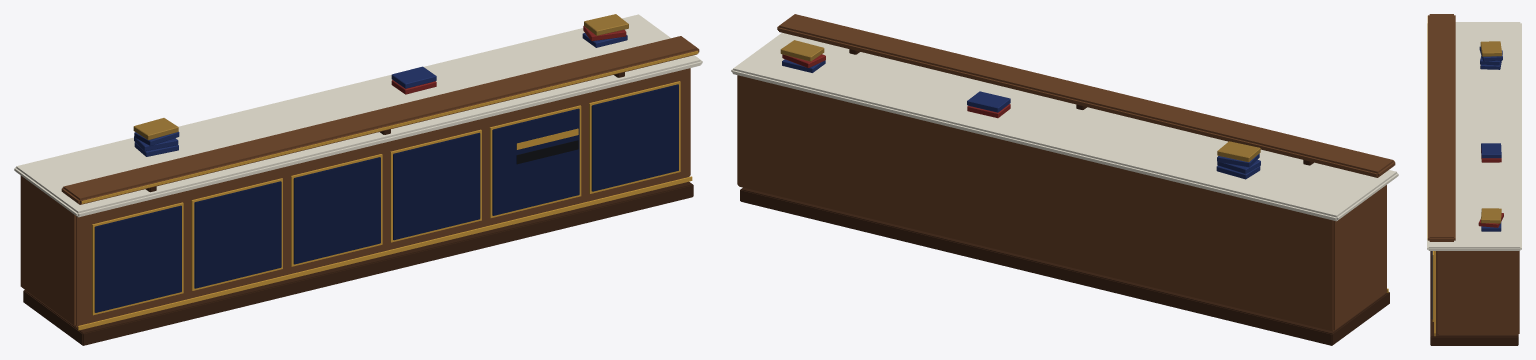
The model's file is counter.glb.
3 views of the same model, side by side, from view 1: azimuth 30°, elevation 25°; view 2: azimuth 150°, elevation 25°; view 3: azimuth 270°, elevation 25° (orthographic). The views are drawn at different scales.
Parts seen in each view (by area): view 1: counter_navy, counter_wood, counter_marble, counter_brass, counter_wood_dark, counter_books, counter_dark; view 2: counter_wood, counter_marble, counter_wood_dark, counter_books; view 3: counter_marble, counter_wood, counter_books, counter_wood_dark, counter_brass, counter_navy.
Boxes of the visible parts, x1,y1,x2,y2 form: counter_navy: [94, 84, 678, 312]; counter_wood: [20, 36, 699, 326]; counter_marble: [14, 14, 702, 217]; counter_brass: [78, 51, 698, 330]; counter_wood_dark: [23, 72, 693, 345]; counter_books: [133, 14, 628, 156]; counter_dark: [516, 140, 578, 164]; counter_wood: [737, 14, 1395, 331]; counter_marble: [731, 32, 1398, 221]; counter_wood_dark: [740, 49, 1389, 345]; counter_books: [780, 40, 1260, 179]; counter_marble: [1427, 22, 1521, 250]; counter_wood: [1428, 14, 1519, 334]; counter_books: [1478, 41, 1503, 231]; counter_wood_dark: [1430, 251, 1518, 345]; counter_brass: [1427, 16, 1435, 336]; counter_navy: [1431, 251, 1432, 319].
Bounding box in the file's own units: 5.08 × 1.25 × 0.9.
